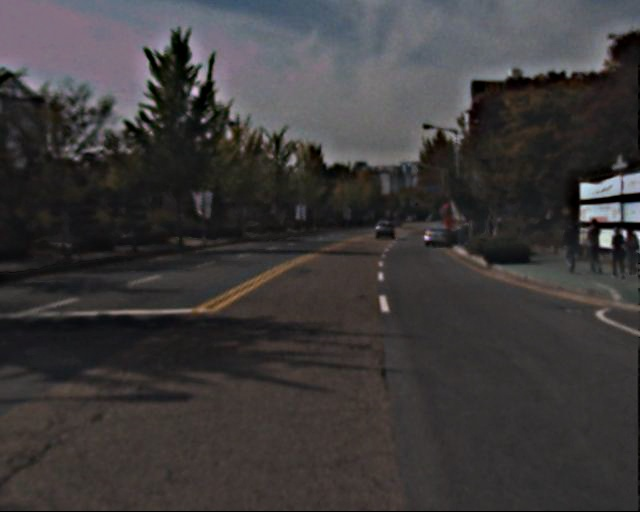person: (581, 218, 607, 277), (604, 226, 629, 280), (561, 219, 582, 273), (621, 224, 640, 279)
